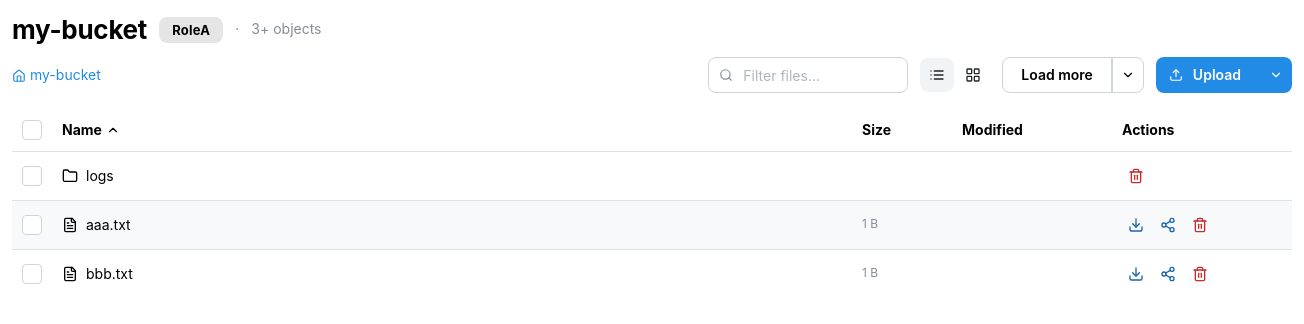
Test: FileBrowser server-search mode › exits server-search and returns to the folder list when the chip is closed
The width and height of the screenshot is (1304, 324).
# Enter server search.
Type "4f2a" into the field with placeholder "Filter files…".
click(808, 75); type("4f2a")  # box [708,57,908,93]
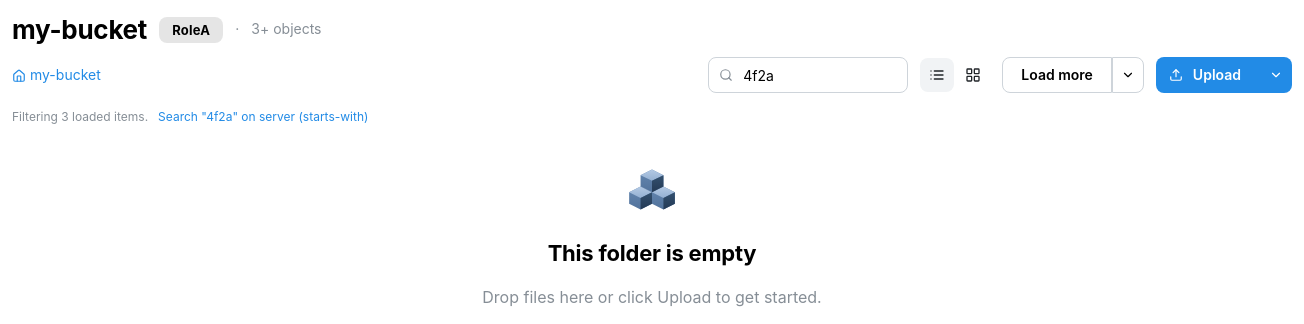
Click the button "Search \"4f2a\" on server (starts-with)".
click(263, 118)  # box [158,109,368,126]
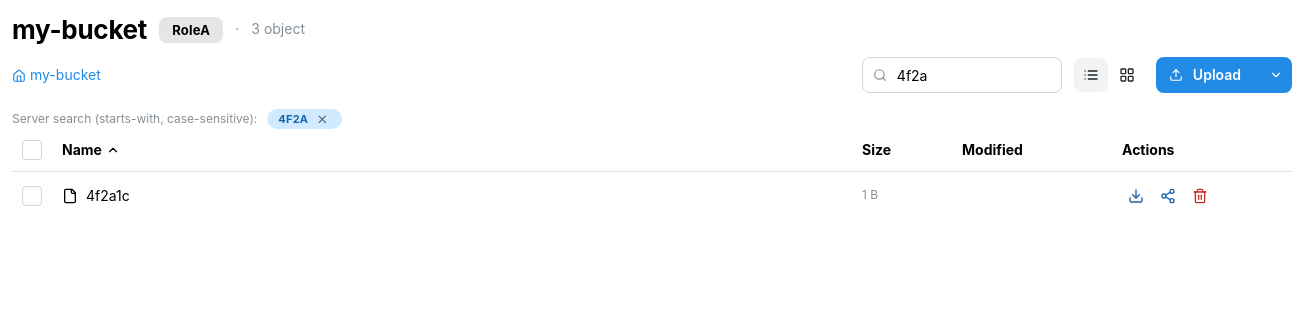
Now the text "4f2a1c" is shown, box [86,186,130,206]
# Click the CloseButton on the chip.
Click the button named "Exit server search".
click(322, 119)  # box [313,110,331,128]
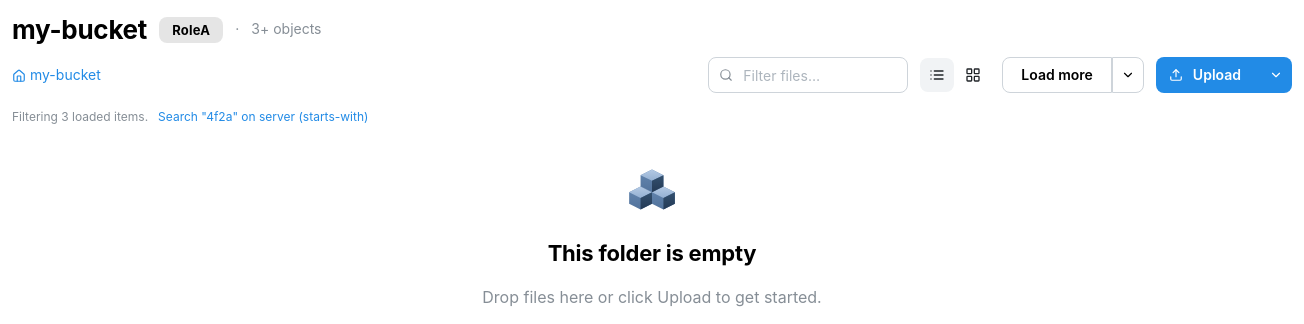
Now the text "Server search (starts-with, case-sensitive):" is gone
Now the text "4f2a1c" is gone
# Clearing the search input restores the full folder listing.
Clear the field with placeholder "Filter files…" at x=808, y=75, box [708,57,908,93]
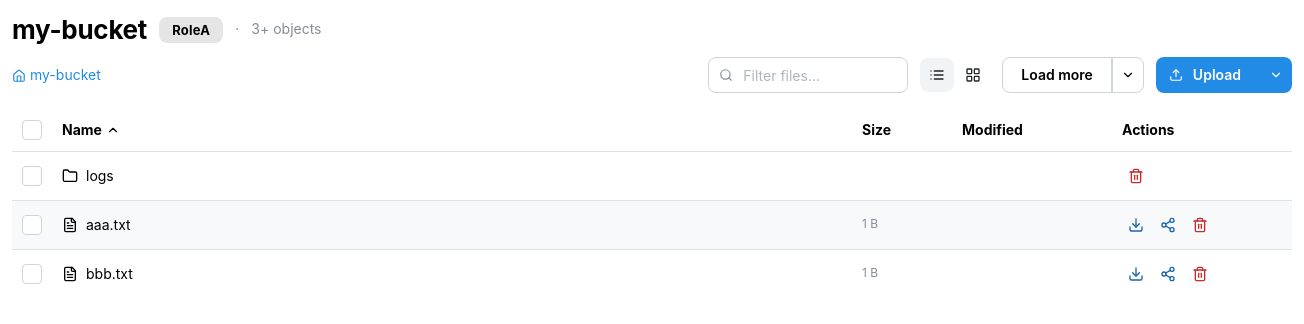
Now the text "aaa.txt" is shown, box [86,215,131,235]
Now the text "bbb.txt" is shown, box [86,264,133,284]
